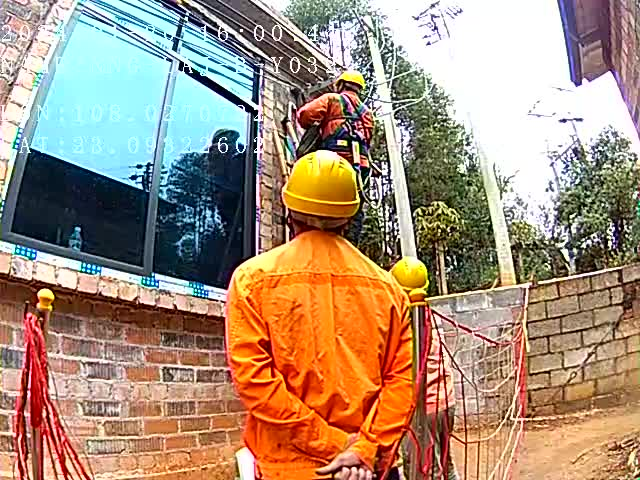halt: (283, 153, 363, 236), (392, 257, 431, 306), (337, 75, 368, 99)
